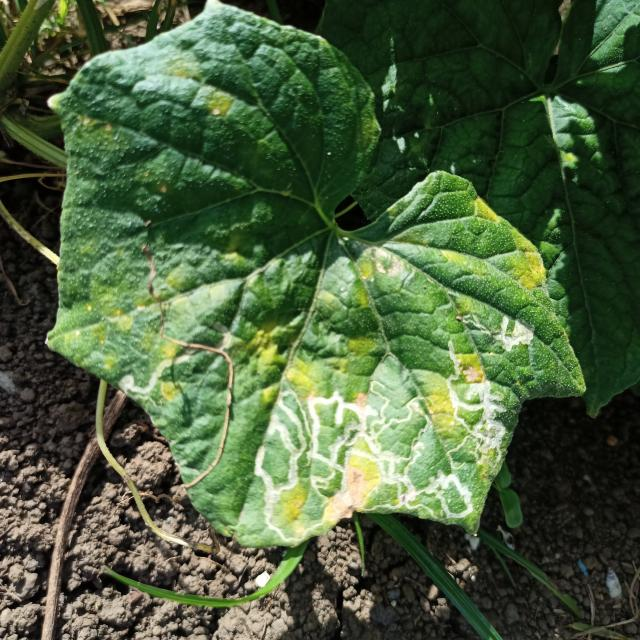disease_cucumber: (241, 291, 559, 533), (85, 241, 242, 406), (433, 193, 551, 292), (159, 50, 245, 126)
